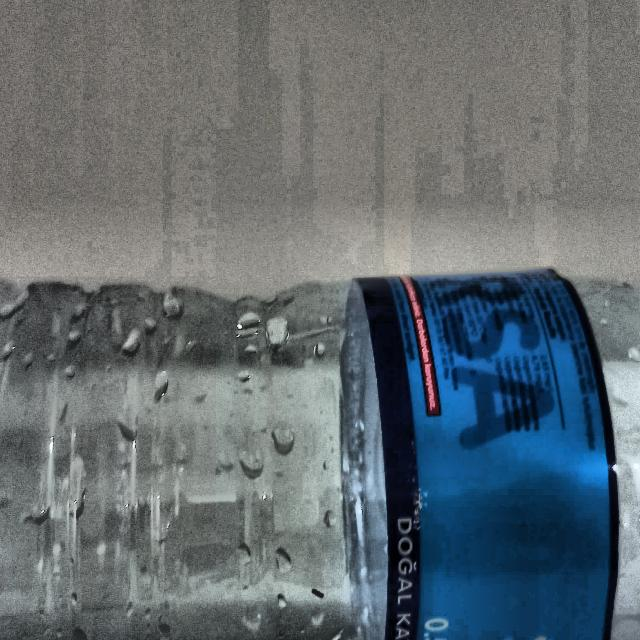plastic: (0, 260, 640, 640)
